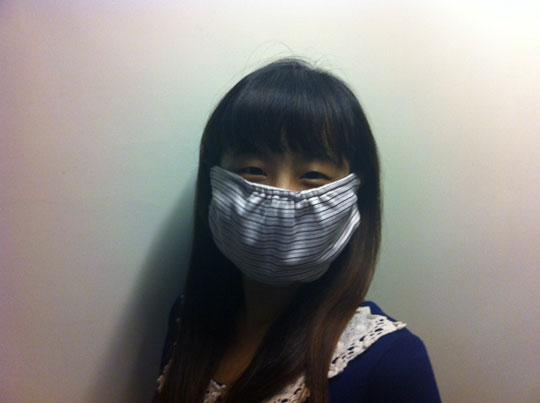OK: (215, 140, 358, 281)
